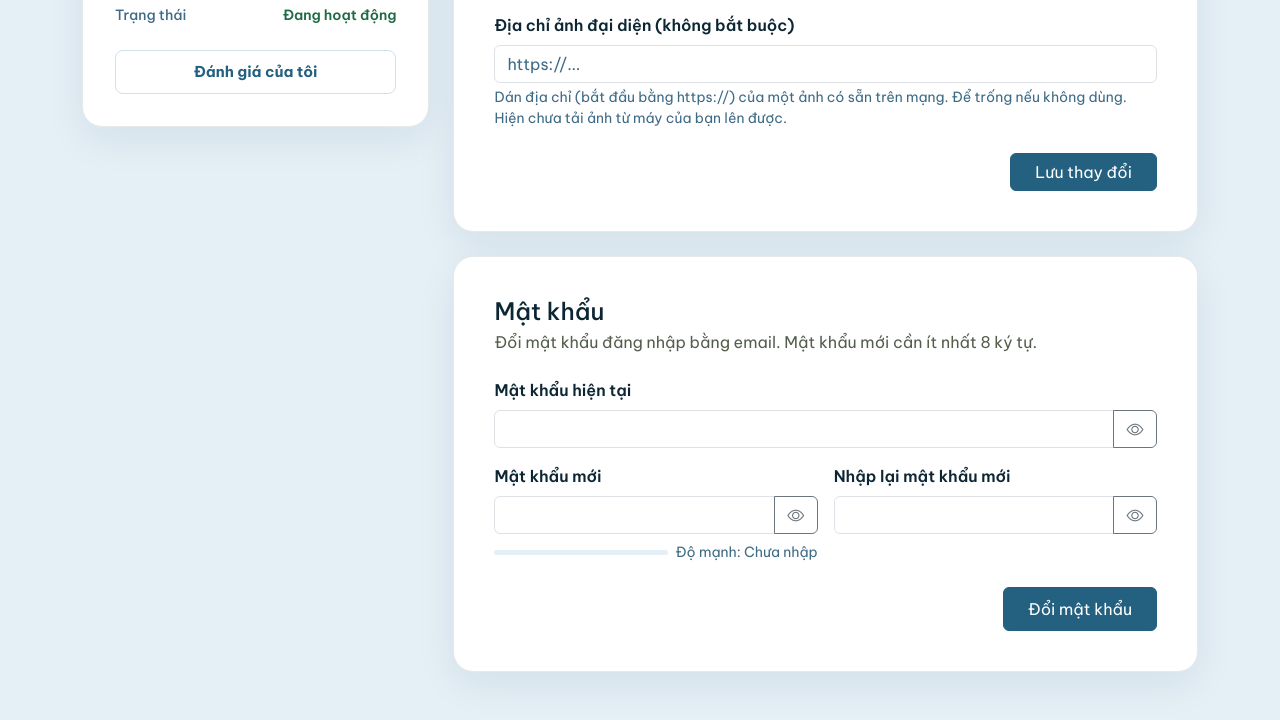
ProfileView: khung mật khẩu › tài khoản có mật khẩu: đổi mật khẩu cần mật khẩu hiện tại rồi tải lại người dùng
(page scrolled)
Expected: the heading "Mật khẩu" is shown, x1=494 y1=296 x2=604 y2=326
Type "MatKhauCu123" into the password field with id "current-password".
click(804, 429); type("MatKhauCu123")  # box x1=494 y1=410 x2=1114 y2=448
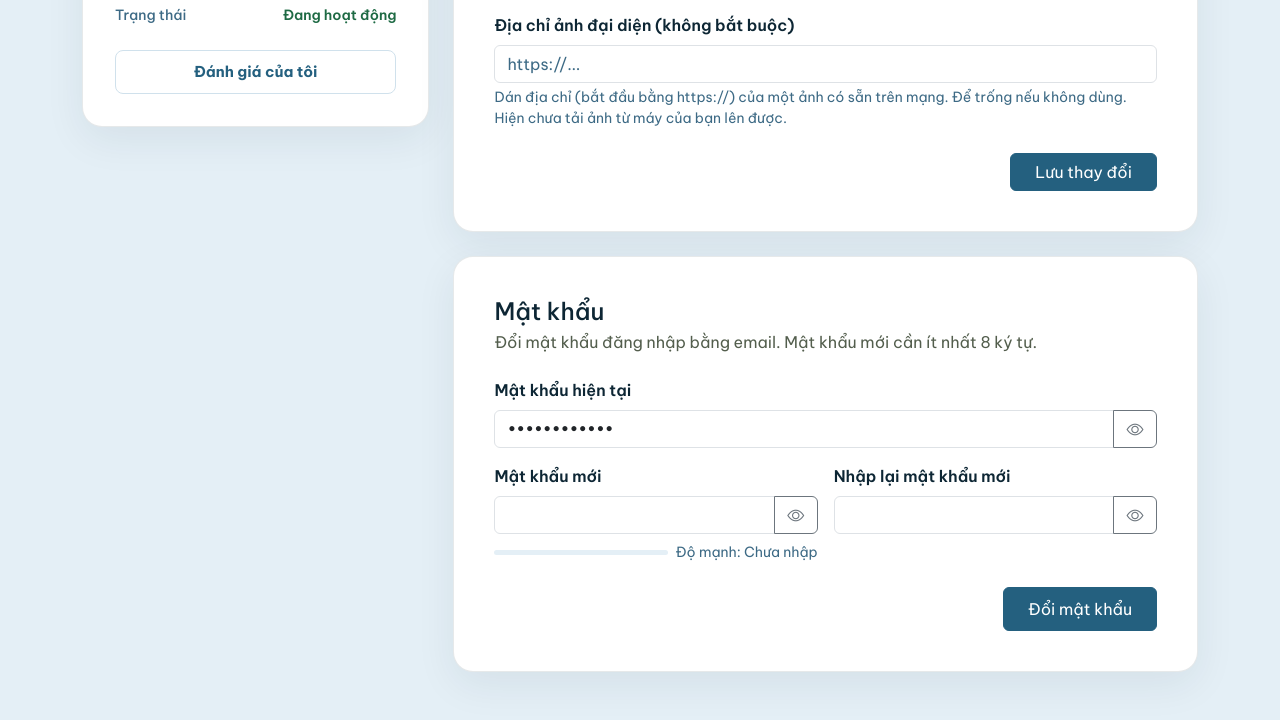
Type "MatKhauMoi456!" into the password field with id "new-password".
click(635, 515); type("MatKhauMoi456!")  # box x1=494 y1=496 x2=775 y2=534
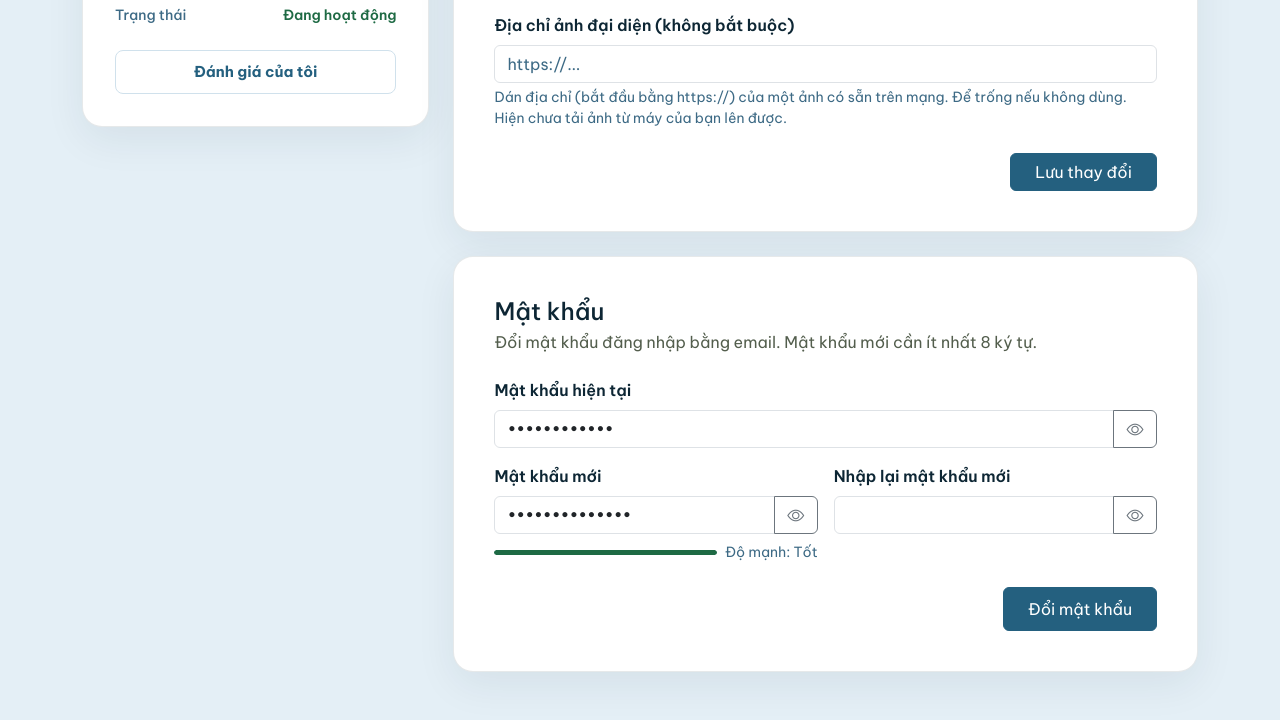
Type "MatKhauMoi456!" into the password field with id "new-password-confirmation".
click(974, 515); type("MatKhauMoi456!")  # box x1=834 y1=496 x2=1114 y2=534
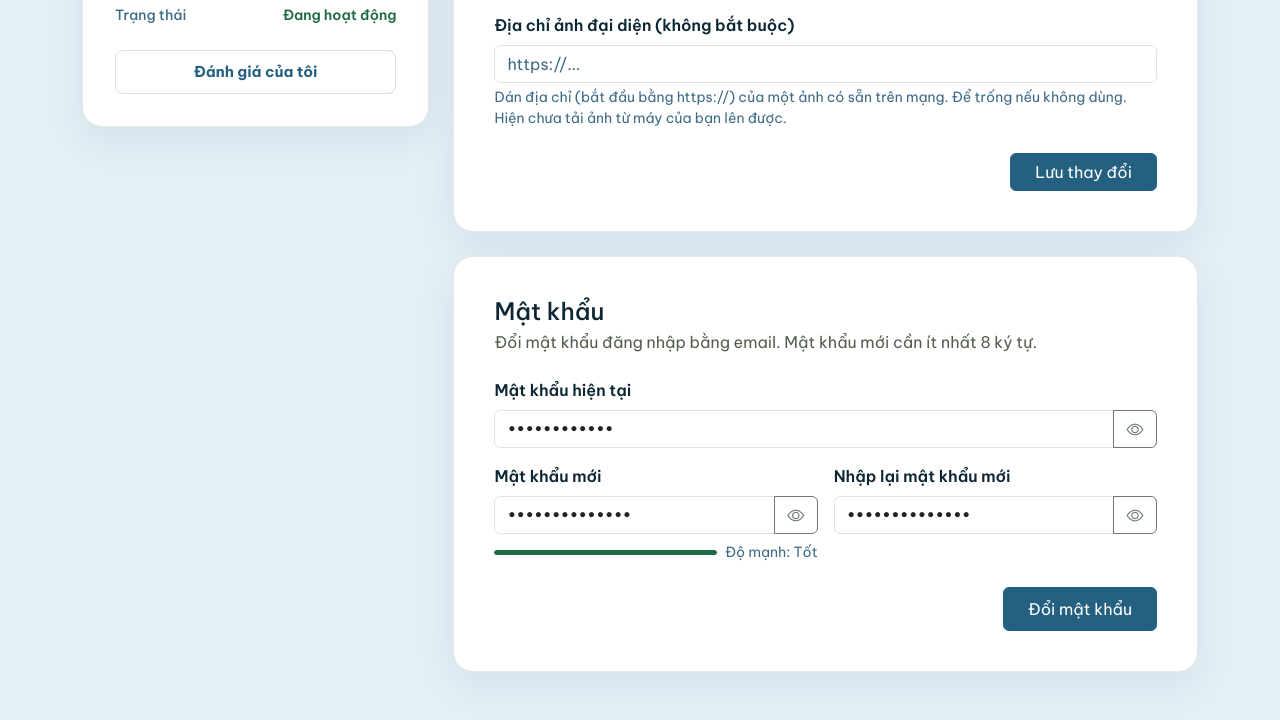
Now the element with id "new-password-strength" shows "Tốt", box x1=725 y1=543 x2=818 y2=561
Submit the form that starts with "Mật khẩu hiện tại", box x1=494 y1=378 x2=1157 y2=631
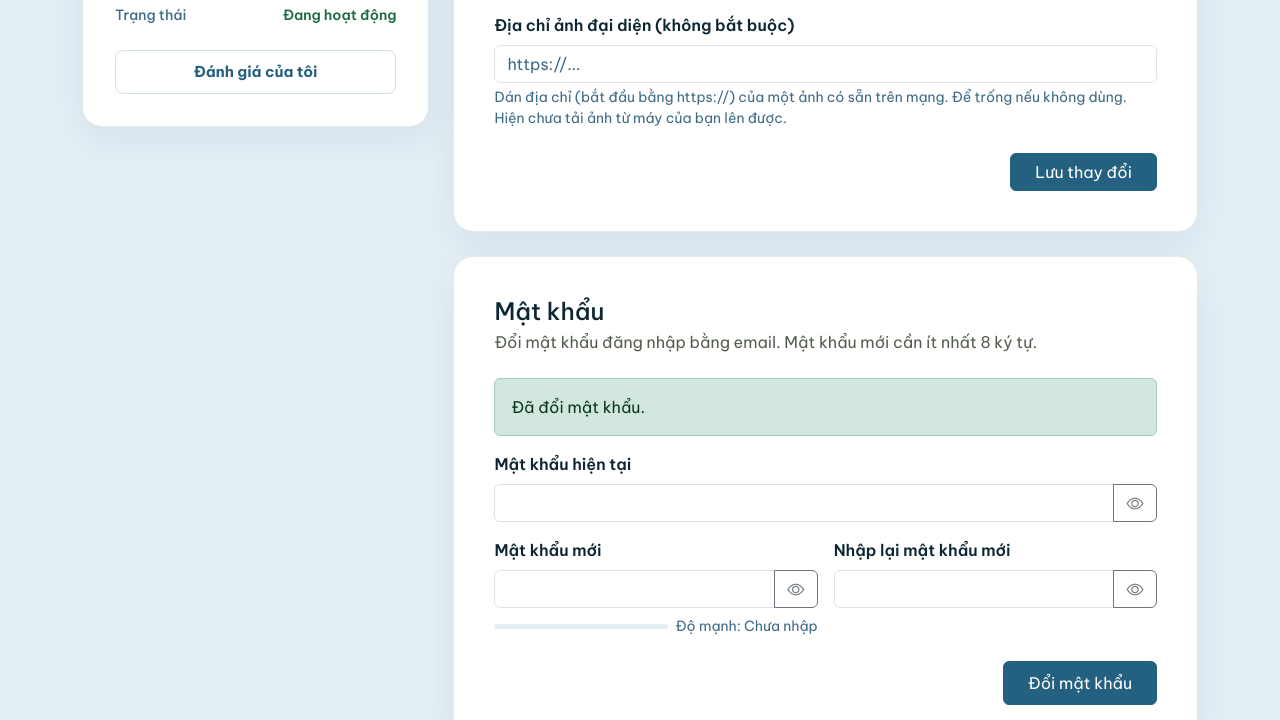
Expected: the password field with id "new-password" is empty, x1=494 y1=570 x2=775 y2=608
Now the message "Đã đổi mật khẩu." is shown, box x1=494 y1=378 x2=1157 y2=436
